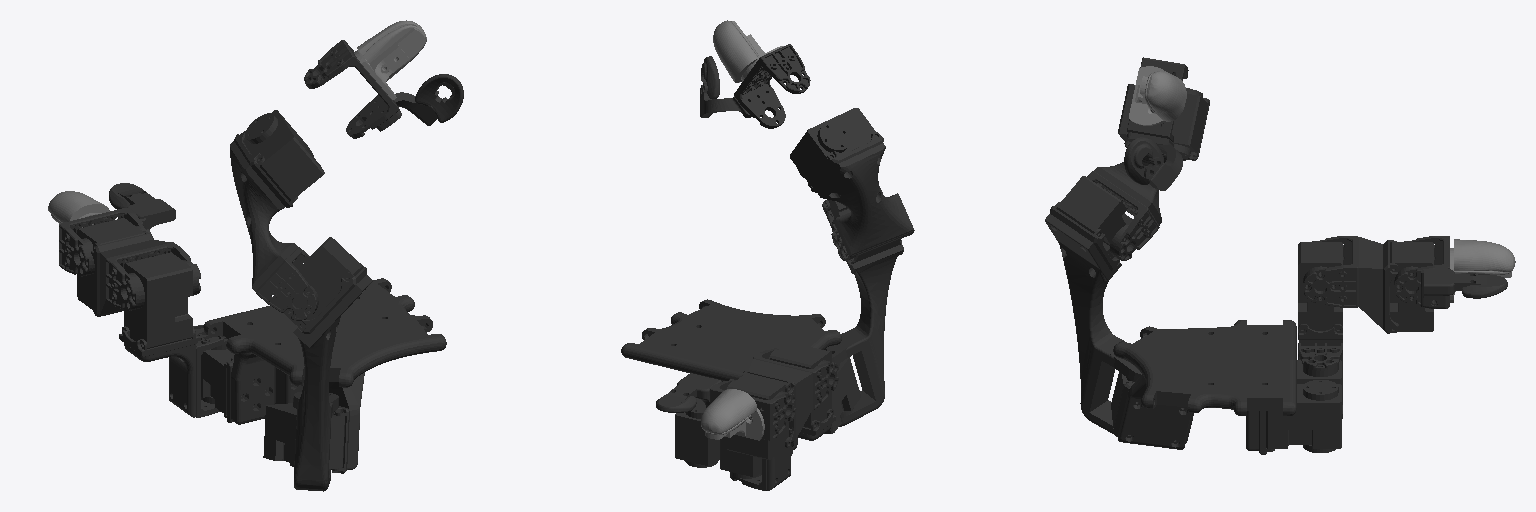
The robot description file, URDF, robot "ditto_left_leader":
<?xml version='1.0' encoding='utf-8'?>
<robot name="ditto_left_leader">
  <link name="base_link">
    <inertial>
      <origin xyz="0.0152144378077 -0.0458257694108 0.0115452538109" rpy="0 -0 0" />
      <mass value="0.0833211952650805" />
      <inertia ixx="3.31172694214e-05" ixy="-7.28985620728e-07" ixz="-4.10611672089e-06" iyy="3.13694915846e-05" iyz="-3.04082055921e-06" izz="4.76920282566e-05" />
    </inertial>
    <visual>
      <origin xyz="0 0 0" rpy="0 -0 0" />
      <geometry>
        <mesh filename="meshes/base_link.STL" />
      </geometry>
      <material name="">
        <color rgba="0.250980392156863 0.250980392156863 0.250980392156863 1" />
      </material>
    </visual>
    <collision>
      <origin xyz="0 0 0" rpy="0 -0 0" />
      <geometry>
        <mesh filename="meshes/base_link.STL" />
      </geometry>
    </collision>
  </link>
  <link name="retarget_base">
    <inertial>
      <origin xyz="0 0 0" rpy="0 -0 0" />
      <mass value="1.0E-06" />
      <inertia ixx="1e-12" ixy="0" ixz="0" iyy="1e-12" iyz="0" izz="1e-12" />
    </inertial>
  </link>
  <joint name="retarget_base_joint" type="fixed">
    <origin xyz="0 0 0.046" rpy="0 -0 0" />
    <parent link="base_link" />
    <child link="retarget_base" />
  </joint>
  <link name="index_link_0">
    <inertial>
      <origin xyz="-0.0271735386977 3.02693906263e-09 0.029005723879" rpy="0 -0 0" />
      <mass value="0.0234290807402588" />
      <inertia ixx="3.11468553842e-06" ixy="1.63639517847e-13" ixz="2.15068798817e-07" iyy="3.56962661403e-06" iyz="-2.93292358216e-13" izz="1.91839577956e-06" />
    </inertial>
    <visual>
      <origin xyz="0 0 0" rpy="0 -0 0" />
      <geometry>
        <mesh filename="meshes/index_link_0.STL" />
      </geometry>
      <material name="">
        <color rgba="0.250980392156863 0.250980392156863 0.250980392156863 1" />
      </material>
    </visual>
    <collision>
      <origin xyz="0 0 0" rpy="0 -0 0" />
      <geometry>
        <mesh filename="meshes/index_link_0.STL" />
      </geometry>
    </collision>
  </link>
  <joint name="index_joint_0" type="revolute">
    <origin xyz="0 0 0" rpy="0 -0 0" />
    <parent link="base_link" />
    <child link="index_link_0" />
    <axis xyz="0 0 -1" />
    <limit lower="-0.3" upper="0.8" effort="0" velocity="0" />
  </joint>
  <link name="index_link_1">
    <inertial>
      <origin xyz="-0.0324867258156 -0.00549943022495 0.000209333565141" rpy="0 -0 0" />
      <mass value="0.0277581841607585" />
      <inertia ixx="4.11454234313e-06" ixy="-4.9684016149e-08" ixz="-1.58829402885e-13" iyy="2.57034877333e-06" iyz="-4.28535395324e-08" izz="2.91638603075e-06" />
    </inertial>
    <visual>
      <origin xyz="0 0 0" rpy="0 -0 0" />
      <geometry>
        <mesh filename="meshes/index_link_1.STL" />
      </geometry>
      <material name="">
        <color rgba="0.250980392156863 0.250980392156863 0.250980392156863 1" />
      </material>
    </visual>
    <collision>
      <origin xyz="0 0 0" rpy="0 -0 0" />
      <geometry>
        <mesh filename="meshes/index_link_1.STL" />
      </geometry>
    </collision>
  </link>
  <joint name="index_joint_1" type="revolute">
    <origin xyz="-0.03 0 0.046" rpy="1.5708 -0 -1.5708" />
    <parent link="index_link_0" />
    <child link="index_link_1" />
    <axis xyz="0 0 -1" />
    <limit lower="-0.17" upper="1.57" effort="0" velocity="0" />
  </joint>
  <link name="index_link_2">
    <inertial>
      <origin xyz="-0.0100768333002 1.61102681582e-13 -1.20279993576e-12" rpy="0 -0 0" />
      <mass value="0.00252674876938613" />
      <inertia ixx="5.3757016895e-07" ixy="-2.36900899402e-18" ixz="2.6858138864e-17" iyy="5.77184540926e-07" iyz="2.72603135902e-18" izz="2.13320625555e-07" />
    </inertial>
    <visual>
      <origin xyz="0 0 0" rpy="0 -0 0" />
      <geometry>
        <mesh filename="meshes/index_link_2.STL" />
      </geometry>
      <material name="">
        <color rgba="0.250980392156863 0.250980392156863 0.250980392156863 1" />
      </material>
    </visual>
    <collision>
      <origin xyz="0 0 0" rpy="0 -0 0" />
      <geometry>
        <mesh filename="meshes/index_link_2.STL" />
      </geometry>
    </collision>
  </link>
  <joint name="index_joint_2" type="revolute">
    <origin xyz="-0.041 0 0" rpy="0 -0 0" />
    <parent link="index_link_1" />
    <child link="index_link_2" />
    <axis xyz="0 0 -1" />
    <limit lower="-0.1" upper="1.57" effort="0" velocity="0" />
  </joint>
  <link name="index_fingerpad">
    <inertial>
      <origin xyz="0.0143776185084 -0.00237508977996 -0.00159388555077" rpy="0 -0 0" />
      <mass value="0.00293503370588173" />
      <inertia ixx="1.33921399649e-07" ixy="4.95796337669e-08" ixz="3.54546635158e-08" iyy="3.38296975785e-07" iyz="-3.08234193737e-08" izz="3.77300589088e-07" />
    </inertial>
    <visual>
      <origin xyz="0 0 0" rpy="0 -0 0" />
      <geometry>
        <mesh filename="meshes/index_fingerpad.STL" />
      </geometry>
      <material name="">
        <color rgba="0.250980392156863 0.250980392156863 0.250980392156863 1" />
      </material>
    </visual>
    <collision>
      <origin xyz="0 0 0" rpy="0 -0 0" />
      <geometry>
        <mesh filename="meshes/index_fingerpad.STL" />
      </geometry>
    </collision>
  </link>
  <joint name="index_fingerpad_joint" type="fixed">
    <origin xyz="-0.0322 0.007 -0.0278" rpy="-1.5708 -0 0" />
    <parent link="index_link_2" />
    <child link="index_fingerpad" />
    <axis xyz="0 0 0" />
  </joint>
  <link name="index_fingertip">
    <inertial>
      <origin xyz="0.0120007934802 -1.08413846942e-09 -0.015944656357" rpy="0 -0 0" />
      <mass value="0.001277690145621" />
      <inertia ixx="7.45331842074e-08" ixy="-2.96134161167e-15" ixz="-3.41868390402e-09" iyy="5.23842023488e-08" iyz="-3.61474000192e-15" izz="7.17532328797e-08" />
    </inertial>
    <visual>
      <origin xyz="0 0 0" rpy="0 -0 0" />
      <geometry>
        <mesh filename="meshes/index_fingertip.STL" />
      </geometry>
      <material name="">
        <color rgba="0.501960784313725 0.501960784313725 0.501960784313725 1" />
      </material>
    </visual>
    <collision>
      <origin xyz="0 0 0" rpy="0 -0 0" />
      <geometry>
        <mesh filename="meshes/index_fingertip.STL" />
      </geometry>
    </collision>
  </link>
  <joint name="index_fingertip_joint" type="fixed">
    <origin xyz="-0.032379 0.014279 0" rpy="-1.5708 -0 0" />
    <parent link="index_link_2" />
    <child link="index_fingertip" />
    <axis xyz="0 0 0" />
  </joint>
  <link name="thumb_link_0">
    <inertial>
      <origin xyz="-0.0277211406322 0.0198752406276 0.0507922215459" rpy="0 -0 0.00591210613737" />
      <mass value="0.0360287569844992" />
      <inertia ixx="1.75304183231e-05" ixy="1.30640778835e-06" ixz="5.54910026755e-06" iyy="1.91614838037e-05" iyz="-1.72454180724e-06" izz="6.16754295627e-06" />
    </inertial>
    <visual>
      <origin xyz="0 0 0" rpy="0 -0 0.00591210613737" />
      <geometry>
        <mesh filename="meshes/thumb_link_0.STL" />
      </geometry>
      <material name="">
        <color rgba="0.250980392156863 0.250980392156863 0.250980392156863 1" />
      </material>
    </visual>
    <collision>
      <origin xyz="0 0 0" rpy="0 -0 0.00591210613737" />
      <geometry>
        <mesh filename="meshes/thumb_link_0.STL" />
      </geometry>
    </collision>
  </link>
  <joint name="thumb_joint_0" type="revolute">
    <origin xyz="0.000810392045195 -0.0819873039473 -0.0022549227037" rpy="0.184740224351 0.181665966851 1.66373584591" />
    <parent link="base_link" />
    <child link="thumb_link_0" />
    <axis xyz="0 0 -1" />
    <limit lower="-0.57" upper="0.8" effort="0" velocity="0" />
  </joint>
  <link name="thumb_link_1">
    <inertial>
      <origin xyz="-0.0385363120735 0.0494333786231 -0.0159564863523" rpy="0 -0 0" />
      <mass value="0.0330039503672684" />
      <inertia ixx="9.6108443247e-06" ixy="2.24944262518e-06" ixz="-8.7592913934e-07" iyy="5.29228181648e-06" iyz="1.17840287646e-06" izz="8.98233743505e-06" />
    </inertial>
    <visual>
      <origin xyz="0 0 0" rpy="0 -0 0" />
      <geometry>
        <mesh filename="meshes/thumb_link_1.STL" />
      </geometry>
      <material name="">
        <color rgba="0.250980392156863 0.250980392156863 0.250980392156863 1" />
      </material>
    </visual>
    <collision>
      <origin xyz="0 0 0" rpy="0 -0 0" />
      <geometry>
        <mesh filename="meshes/thumb_link_1.STL" />
      </geometry>
    </collision>
  </link>
  <joint name="thumb_joint_1" type="revolute">
    <origin xyz="-0.033941125497 0.033941125497 0.0705336219106" rpy="1.57079632679 0.687165789356 -2.35619449019" />
    <parent link="thumb_link_0" />
    <child link="thumb_link_1" />
    <axis xyz="0 0 -1" />
    <limit lower="-1.57" upper="0.3" effort="0" velocity="0" />
  </joint>
  <link name="thumb_link_3">
    <inertial>
      <origin xyz="-0.0100768331764 -5.41480197665e-11 -0.00799999996807" rpy="0 -0 -0.00428657420023" />
      <mass value="0.00252674889438427" />
      <inertia ixx="5.37570898003e-07" ixy="-1.69807278639e-10" ixz="-3.80974738505e-16" iyy="5.77183813886e-07" iyz="-4.02356796511e-17" izz="2.13320626363e-07" />
    </inertial>
    <visual>
      <origin xyz="0 0 0" rpy="0 -0 -0.00428657420023" />
      <geometry>
        <mesh filename="meshes/thumb_link_3.STL" />
      </geometry>
      <material name="">
        <color rgba="0.250980392156863 0.250980392156863 0.250980392156863 1" />
      </material>
    </visual>
    <collision>
      <origin xyz="0 0 0" rpy="0 -0 -0.00428657420023" />
      <geometry>
        <mesh filename="meshes/thumb_link_3.STL" />
      </geometry>
    </collision>
  </link>
  <joint name="thumb_joint_3" type="revolute">
    <origin xyz="-0.0544657487321 0.0718418132538 -0.026569488682" rpy="1.14448873096 -0.19494617924 -1.71050085924" />
    <parent link="thumb_link_1" />
    <child link="thumb_link_3" />
    <axis xyz="0 0 -1" />
    <limit lower="-1.57" upper="0.1" effort="0" velocity="0" />
  </joint>
  <link name="thumb_fingerpad">
    <inertial>
      <origin xyz="0.00872390099835 0.00591950501233 -0.00537464637346" rpy="0 -0 0" />
      <mass value="0.00273977118217093" />
      <inertia ixx="2.91978087929e-07" ixy="-9.70777337553e-09" ixz="-8.60983354631e-09" iyy="2.36304105033e-07" iyz="8.34404661521e-08" izz="1.70851418163e-07" />
    </inertial>
    <visual>
      <origin xyz="0 0 0" rpy="0 -0 0" />
      <geometry>
        <mesh filename="meshes/thumb_fingerpad.STL" />
      </geometry>
      <material name="">
        <color rgba="0.250980392156863 0.250980392156863 0.250980392156863 1" />
      </material>
    </visual>
    <collision>
      <origin xyz="0 0 0" rpy="0 -0 0" />
      <geometry>
        <mesh filename="meshes/thumb_fingerpad.STL" />
      </geometry>
    </collision>
  </link>
  <joint name="thumb_fingerpad_joint" type="fixed">
    <origin xyz="-0.034 -0.005 -0.0398" rpy="1.80666825946 0.379498136324 -0.503100653479" />
    <parent link="thumb_link_3" />
    <child link="thumb_fingerpad" />
    <axis xyz="0 0 0" />
    <limit lower="0" upper="0" effort="0" velocity="0" />
  </joint>
  <link name="thumb_fingertip">
    <inertial>
      <origin xyz="0.0120007743592 -2.76003019051e-10 -0.0159446780591" rpy="0 -0 0" />
      <mass value="0.00127770829695991" />
      <inertia ixx="7.45332645563e-08" ixy="-6.65284831998e-15" ixz="-3.41874497987e-09" iyy="5.23841803161e-08" iyz="6.85373330982e-15" izz="7.17532160158e-08" />
    </inertial>
    <visual>
      <origin xyz="0 0 0" rpy="0 -0 0" />
      <geometry>
        <mesh filename="meshes/thumb_fingertip.STL" />
      </geometry>
      <material name="">
        <color rgba="0.501960784313725 0.501960784313725 0.501960784313725 1" />
      </material>
    </visual>
    <collision>
      <origin xyz="0 0 0" rpy="0 -0 0" />
      <geometry>
        <mesh filename="meshes/thumb_fingertip.STL" />
      </geometry>
    </collision>
  </link>
  <joint name="thumb_fingertip_joint" type="fixed">
    <origin xyz="-0.0323787615106 -0.014279058454 -0.008" rpy="1.57079632679 -0 0" />
    <parent link="thumb_link_3" />
    <child link="thumb_fingertip" />
    <axis xyz="0 0 0" />
  </joint>
</robot>

--- What the picture shows (computed from the rendered views, not written in the file) ---
The picture shows the robot from 3 angles, left to right: view 1: azimuth 30°, elevation 25°; view 2: azimuth 150°, elevation 25°; view 3: azimuth 270°, elevation 25°; orthographic projection.
Robot: ditto_left_leader — 12 links, 11 joints (6 revolute, 5 fixed); root link base_link; default pose: all joints at 0.
Links seen in each view (by area): view 1: base_link, thumb_link_1, thumb_link_0, index_link_0, index_link_1, thumb_fingertip, thumb_link_3, thumb_fingerpad, index_link_2, index_fingerpad, index_fingertip; view 2: base_link, thumb_link_1, thumb_link_0, index_link_1, thumb_link_3, index_link_0, index_fingertip, thumb_fingertip, index_link_2, index_fingerpad, thumb_fingerpad; view 3: base_link, thumb_link_0, index_link_1, thumb_link_1, index_link_0, thumb_fingertip, thumb_fingerpad, index_fingerpad, index_fingertip, index_link_2, thumb_link_3.
Link boxes in pixels (box(x1,y1,x2,y2)): base_link: box(201, 278, 446, 474); thumb_link_1: box(230, 110, 324, 320); thumb_link_0: box(273, 237, 372, 491); index_link_0: box(119, 252, 227, 417); index_link_1: box(77, 218, 200, 316); thumb_fingertip: box(354, 20, 426, 99); thumb_link_3: box(304, 40, 398, 138); thumb_fingerpad: box(376, 74, 463, 131); index_link_2: box(59, 208, 150, 276); index_fingerpad: box(109, 183, 175, 229); index_fingertip: box(48, 191, 109, 227); base_link: box(621, 299, 860, 478); thumb_link_1: box(790, 108, 914, 260); thumb_link_0: box(822, 186, 904, 426); index_link_1: box(726, 348, 838, 459); thumb_link_3: box(734, 44, 810, 128); index_link_0: box(730, 342, 835, 490); index_fingertip: box(701, 389, 764, 440); thumb_fingertip: box(713, 20, 783, 82); index_link_2: box(710, 379, 796, 440); index_fingerpad: box(656, 373, 721, 412); thumb_fingerpad: box(700, 56, 765, 117); base_link: box(1111, 320, 1341, 454); thumb_link_0: box(1045, 176, 1141, 433); index_link_1: box(1303, 236, 1433, 333); thumb_link_1: box(1087, 84, 1209, 260); index_link_0: box(1298, 242, 1342, 418); thumb_fingertip: box(1129, 66, 1186, 125); thumb_fingerpad: box(1124, 132, 1182, 190); index_fingerpad: box(1421, 268, 1507, 308); index_fingertip: box(1450, 239, 1515, 302); index_link_2: box(1394, 236, 1449, 307); thumb_link_3: box(1127, 57, 1188, 142).
Size in the robot's own frame: 0.1248 by 0.2113 by 0.2057 metres.
Meshes: 11 distinct files referenced, 11 mesh visuals loaded (11 binary STL).
